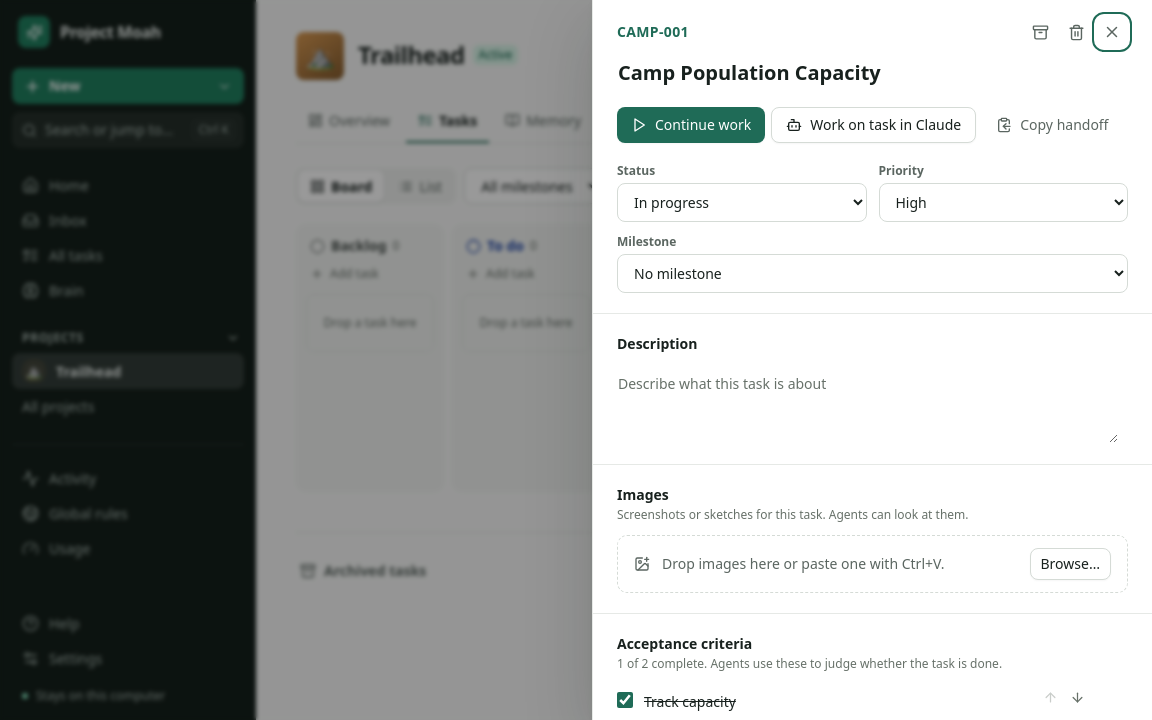
Test: task journeys › deletes a task, closes its panel, and does not ask for the deleted task again
Click the button named "Delete".
click(1076, 32)  # box [1060,16,1092,48]
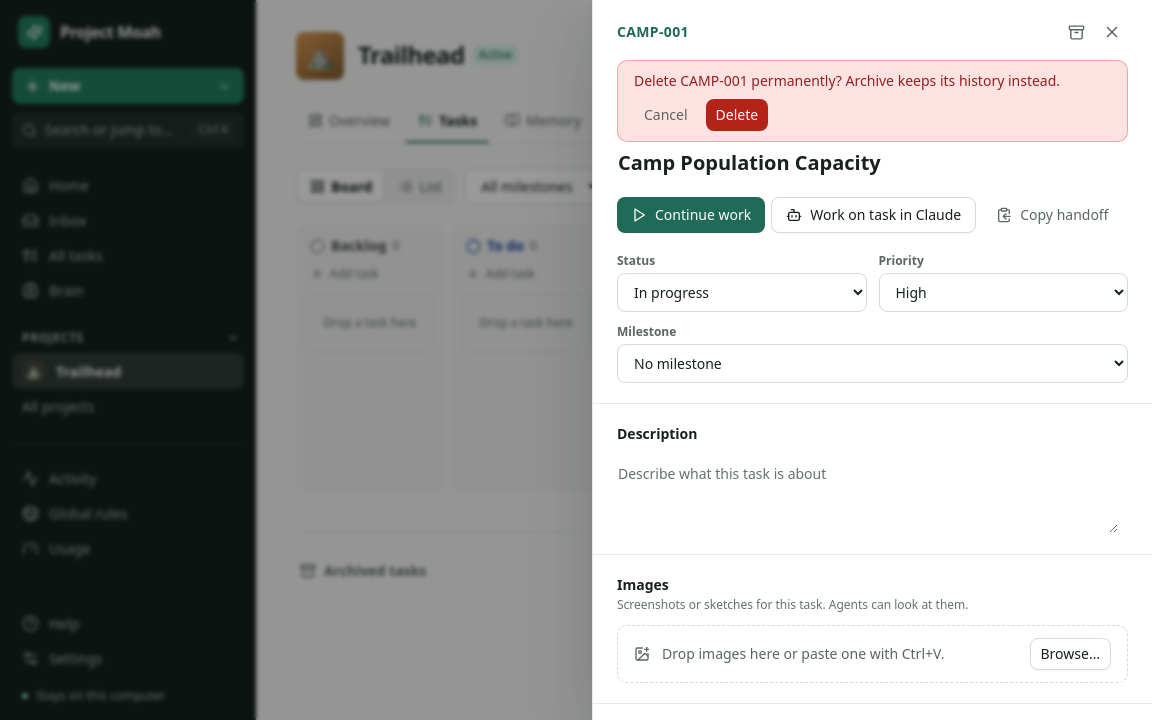
Click the button "Delete".
click(737, 115)  # box [706,99,768,131]
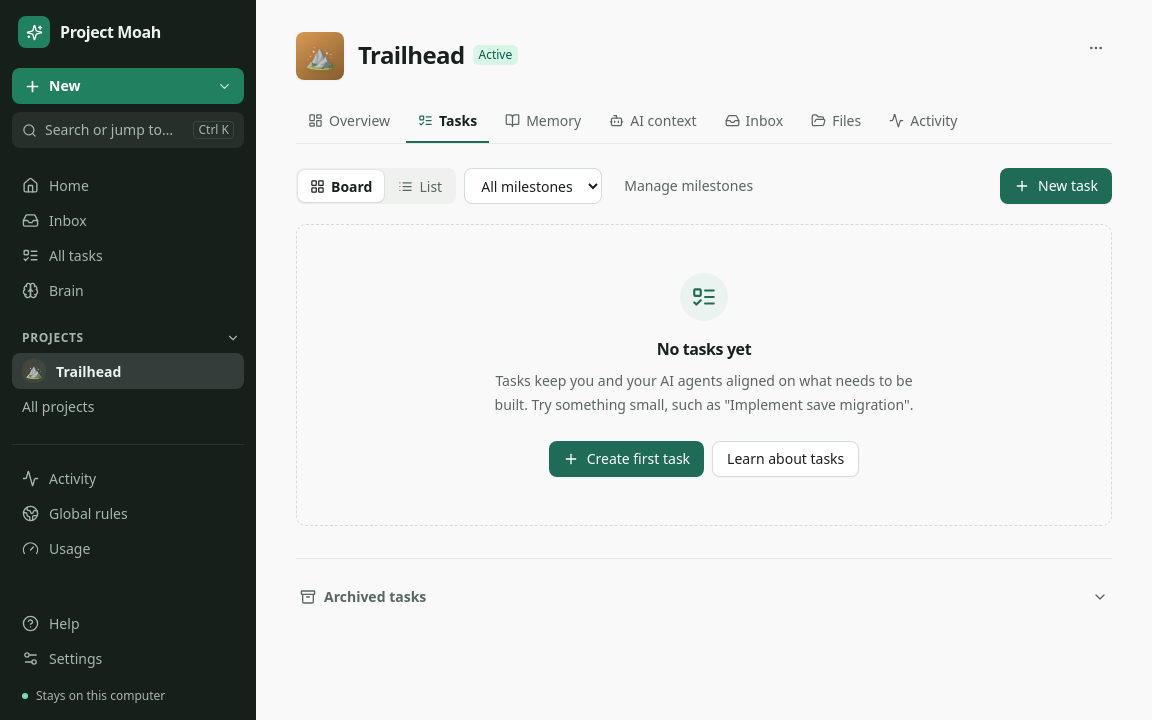
Result: the button "CAMP-001" is gone
